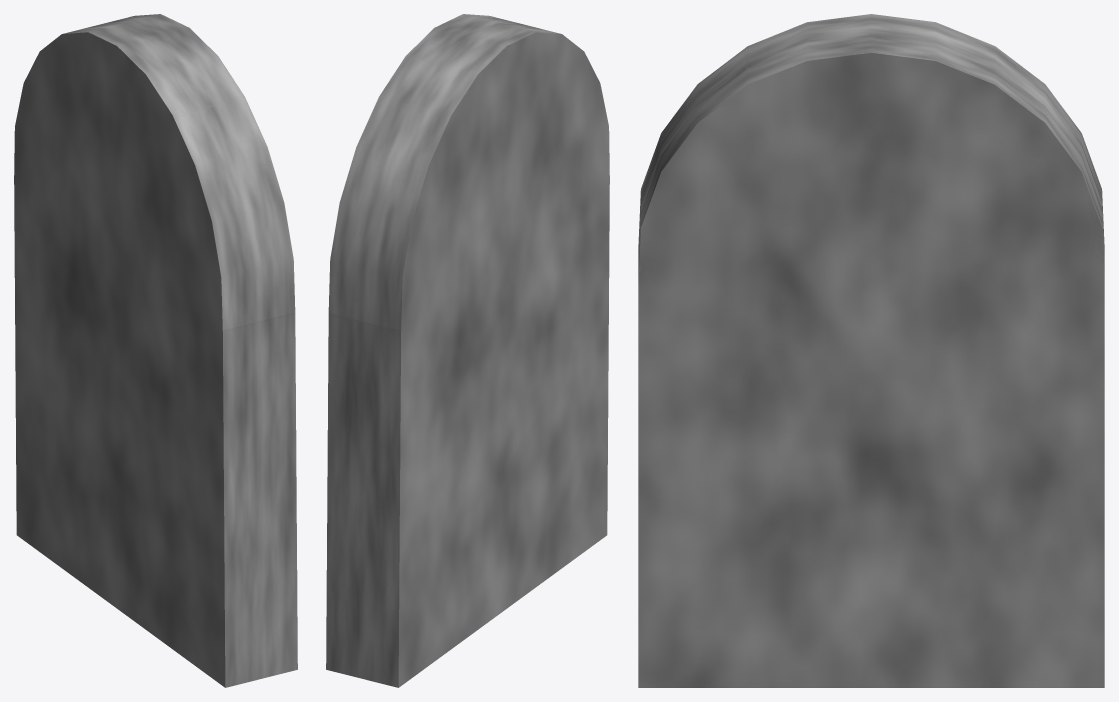
File: Gravestone.dae
3 views of the same model, side by side, from view 1: azimuth 30°, elevation 25°; view 2: azimuth 150°, elevation 25°; view 3: azimuth 270°, elevation 25° (orthographic). The views are drawn at different scales.
Parts seen in each view (by area): view 1: SketchUp; view 2: SketchUp; view 3: SketchUp.
Part boxes in pixels (<box>): SketchUp: <box>14,14,297,687</box>; SketchUp: <box>326,14,609,687</box>; SketchUp: <box>638,14,1104,687</box>.
Bounding box in the file's own units: 0.0341 × 0.161 × 0.2413.
Materials: 1 (1 with a texture image).
